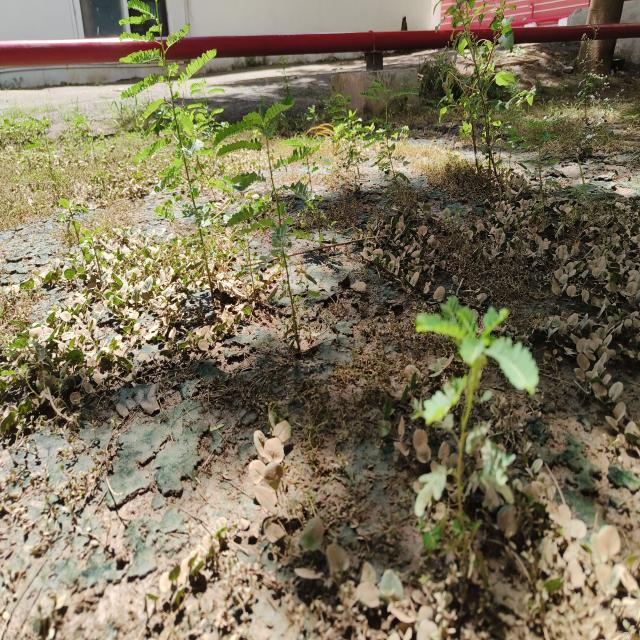weed: (405, 287, 550, 446)
